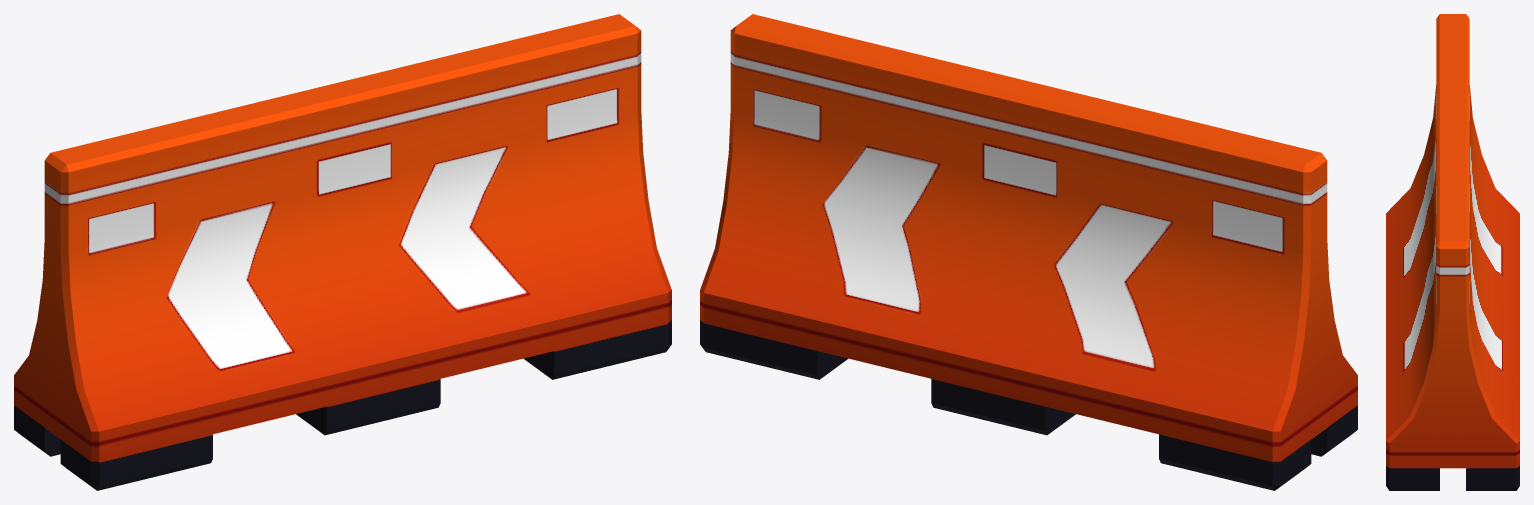
File: ROD0110004.FBX
3 renders of one model, left to right at view 1: azimuth 30°, elevation 25°; view 2: azimuth 150°, elevation 25°; view 3: azimuth 270°, elevation 25°, orthographic. The views are drawn at different scales.
Parts seen in each view (by area): view 1: smROD0110004; view 2: smROD0110004; view 3: smROD0110004.
Boxes of the visible parts, <box> form: smROD0110004: <box>14,14,671,490</box>; smROD0110004: <box>700,14,1357,490</box>; smROD0110004: <box>1386,14,1519,490</box>.
Size of the model in its own units: 50.17 by 25.09 by 12.21.
Materials: 1 (1 with a texture image).
